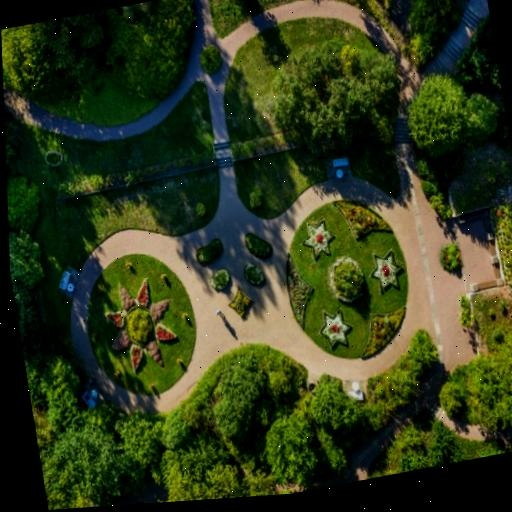tree-top: (266, 22, 400, 169), (404, 58, 502, 157), (142, 423, 244, 504), (201, 358, 278, 449), (33, 11, 110, 102), (107, 16, 187, 102), (45, 398, 125, 482), (260, 411, 321, 488), (1, 20, 57, 95), (113, 410, 164, 485), (466, 352, 512, 434), (313, 372, 369, 438), (8, 226, 54, 304), (6, 164, 47, 225), (44, 471, 99, 510), (392, 430, 435, 473), (4, 104, 27, 182), (429, 418, 465, 467), (433, 380, 471, 426), (329, 257, 366, 304), (196, 38, 229, 80), (497, 332, 512, 414)
